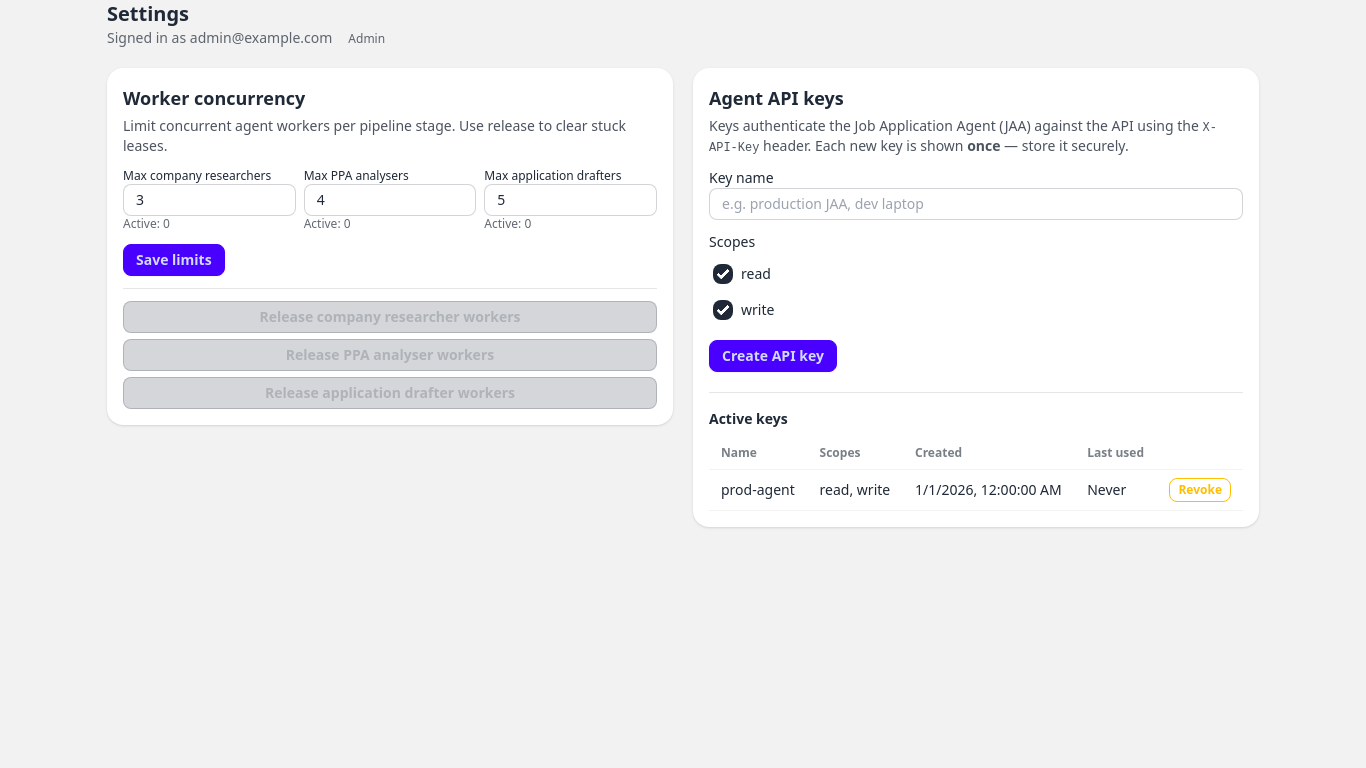
Scenario: SettingsPage › renders key list and revokes after confirmation
expect the heading "Settings" is shown: met, box top-left (107, 0), bottom-right (189, 27)
expect the text "prod-agent" is shown: met, box top-left (709, 470), bottom-right (808, 510)
Click the button "Revoke": (1200, 490) top-left (1169, 478), bottom-right (1231, 502)
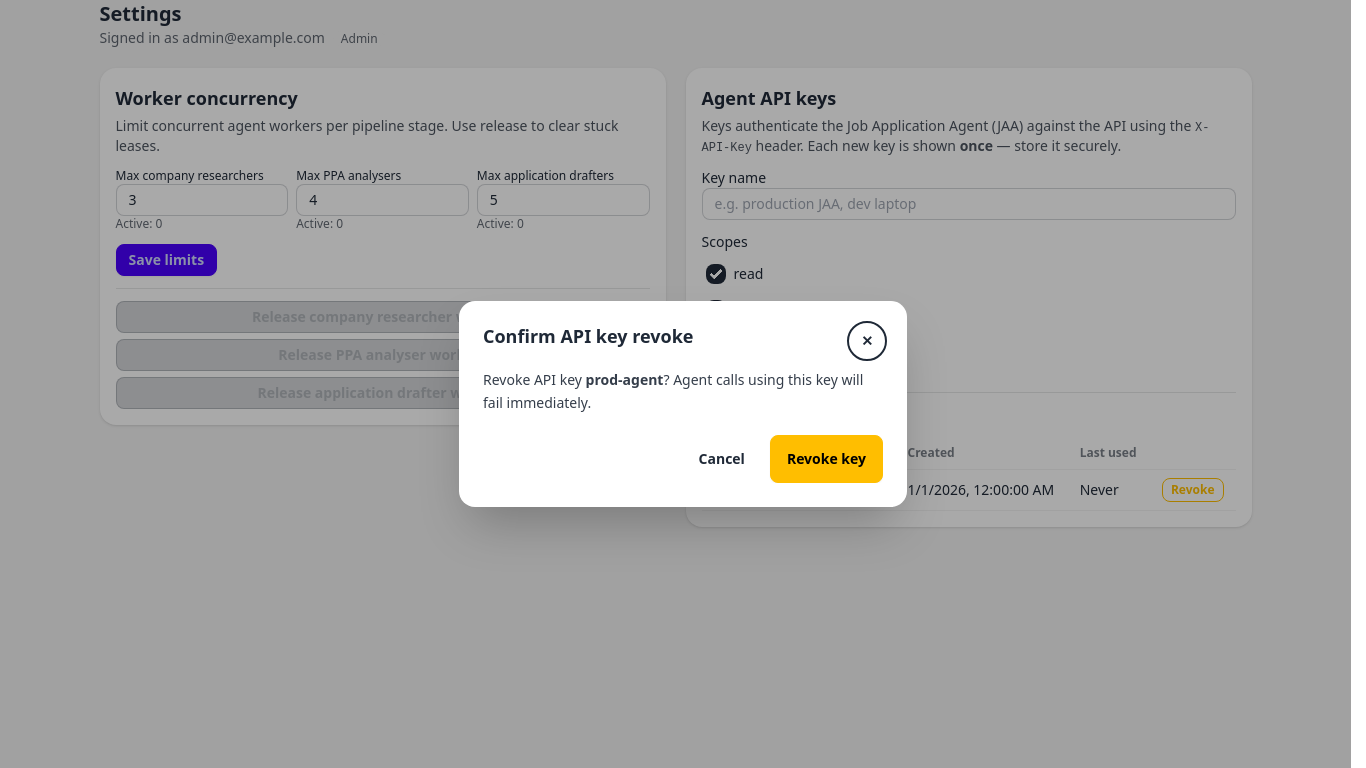
expect the heading "Confirm API key revoke" is shown: met, box top-left (483, 325), bottom-right (694, 348)
Click the button "Revoke key": (826, 459) top-left (770, 435), bottom-right (883, 483)
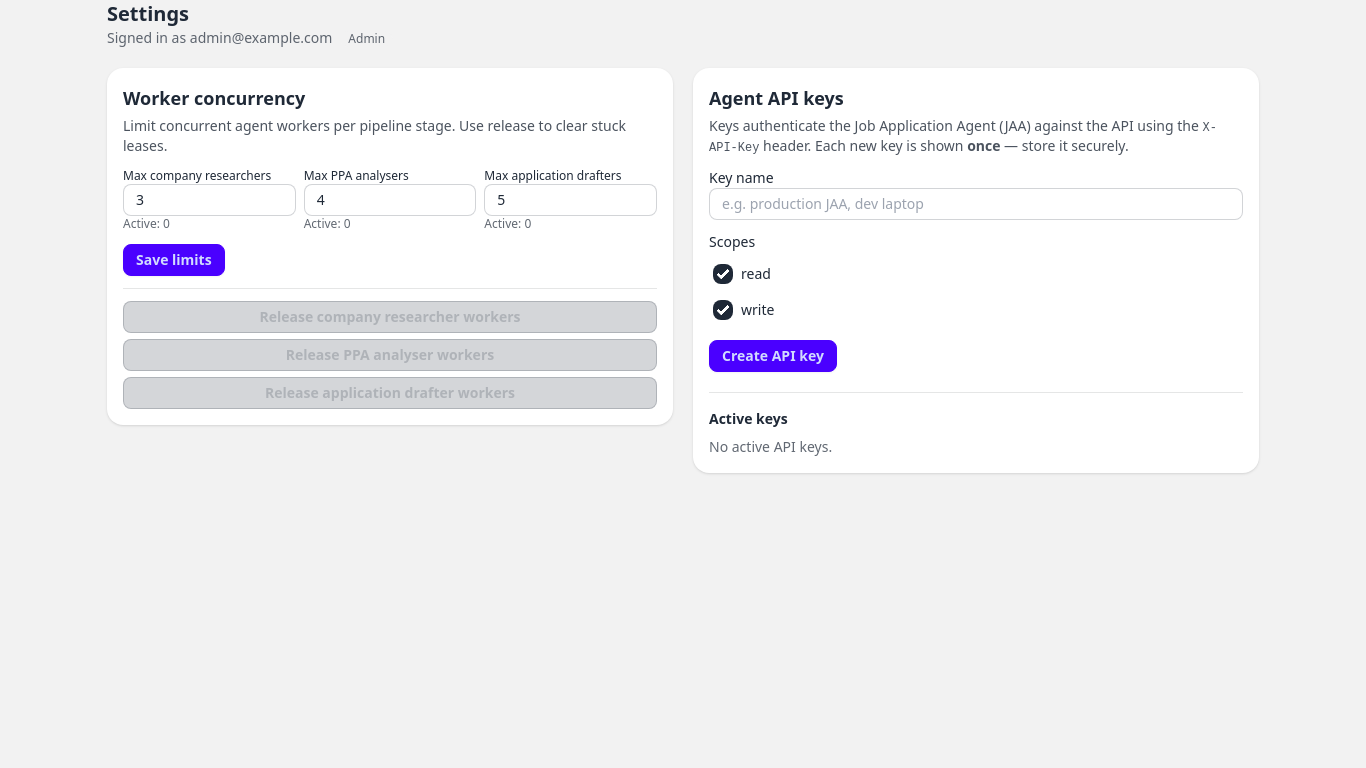
expect the text "prod-agent" is gone: met
